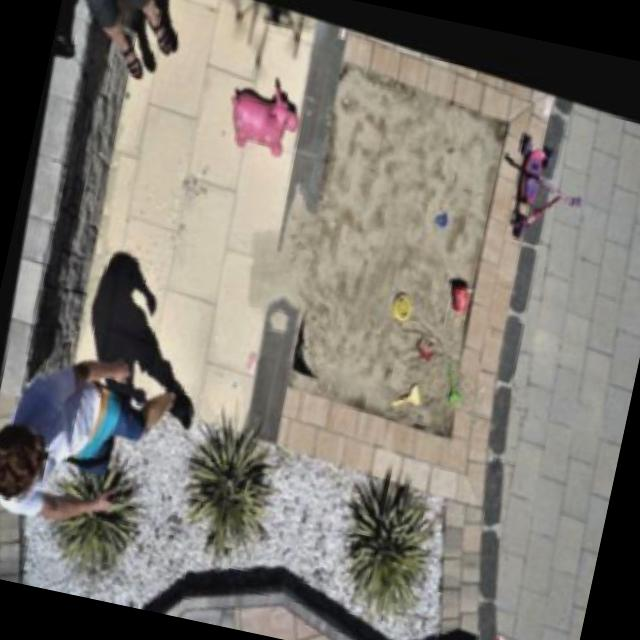Person: (0, 315, 215, 570), (48, 0, 195, 89)
